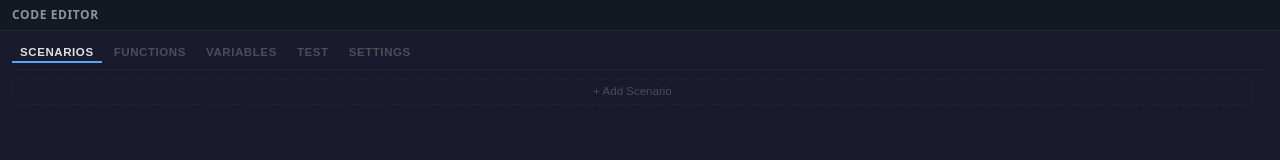
CodeEditorPanel › add buttons › should show Add Function button in Functions tab
Click the button "Functions" at (150, 53), box 106,43 -> 194,63
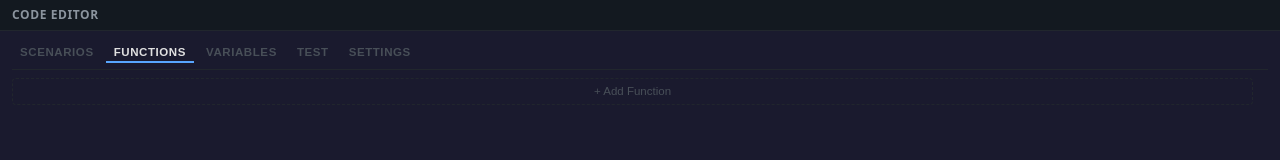
Expected: the button "+ Add Function" is shown, 12,78 -> 1253,105
